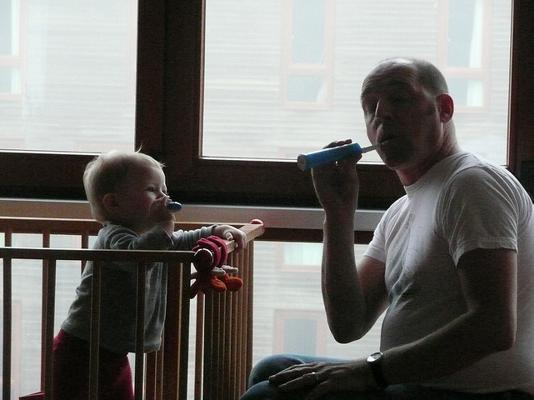person: (237, 58, 534, 400)
